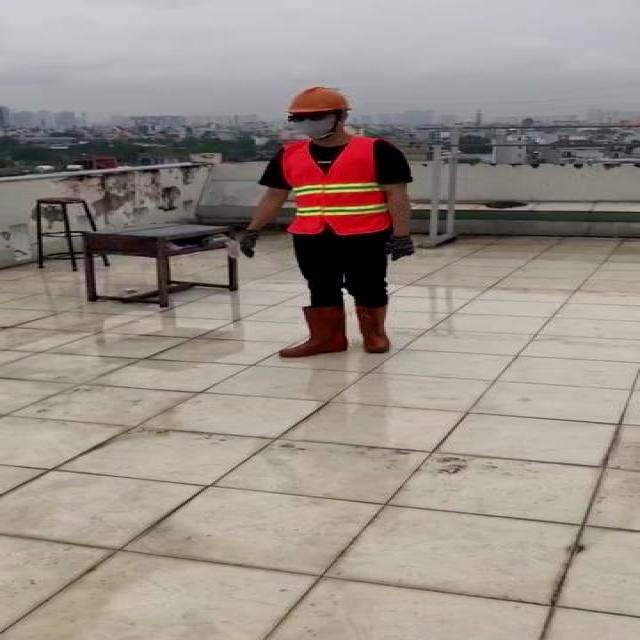boots: (279, 303, 349, 359), (357, 302, 395, 355)
face_mask: (289, 111, 337, 138)
glasses: (284, 111, 332, 124)
hand_glove: (378, 234, 418, 260), (237, 229, 260, 260)
head_helmet: (282, 86, 354, 116)
person: (228, 80, 418, 364)
vest: (279, 134, 389, 234)
